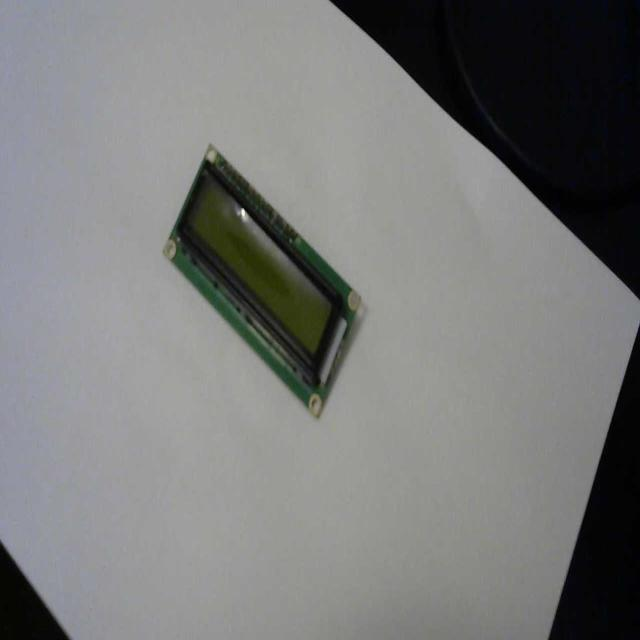lcd: (162, 140, 362, 420)
